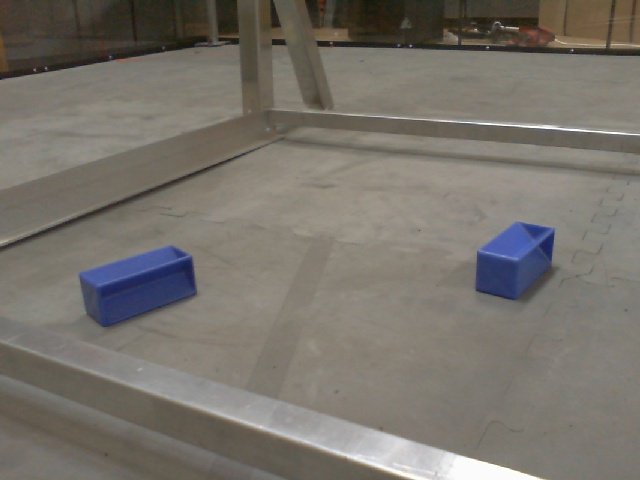BlueSample: (78, 242, 199, 327), (474, 219, 555, 301)
